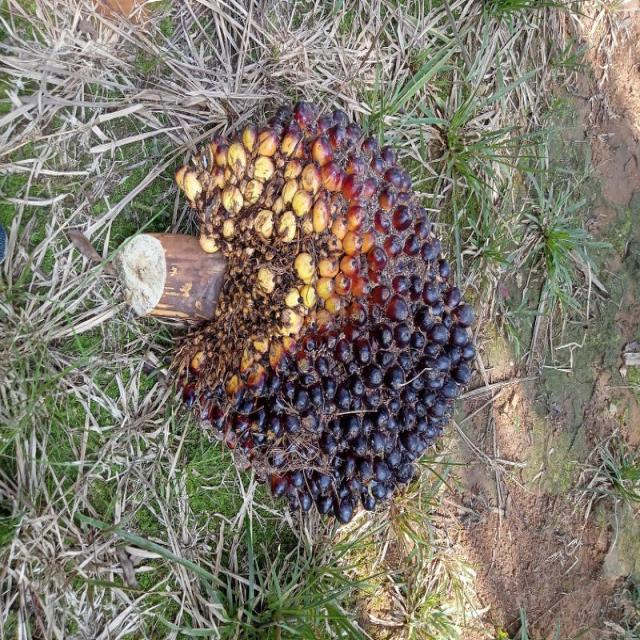fraksi 00: (164, 103, 474, 525)
